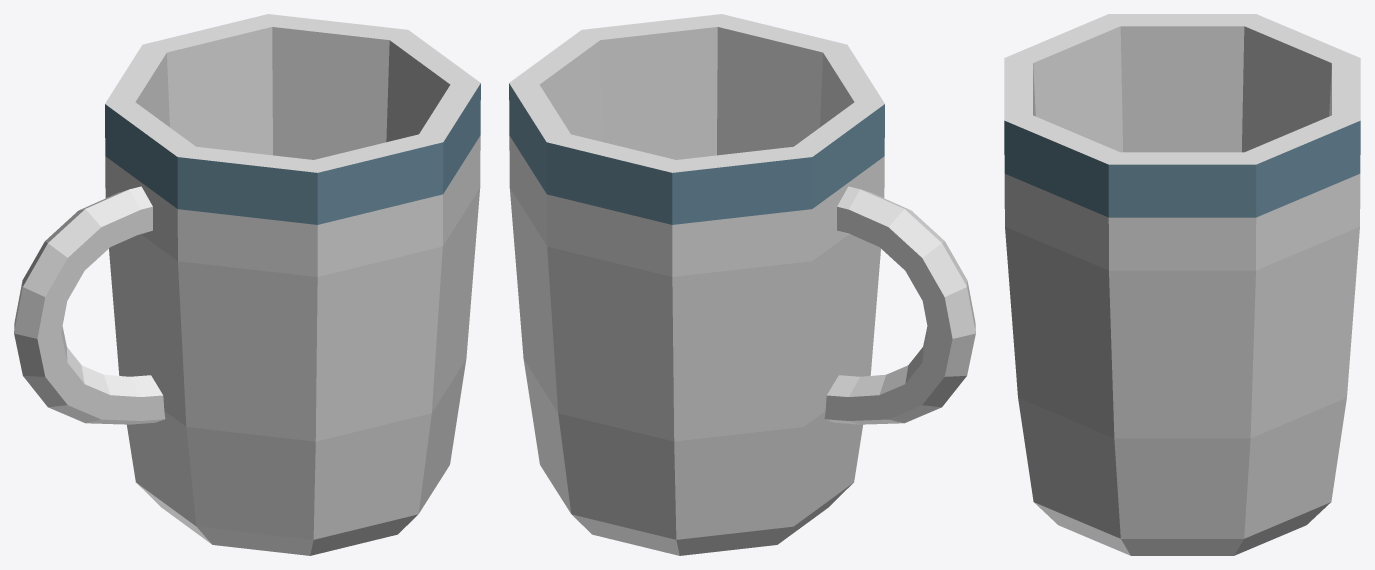
File: Cup3_C2.fbx
The picture shows the model from 3 angles, left to right: view 1: azimuth 30°, elevation 25°; view 2: azimuth 150°, elevation 25°; view 3: azimuth 270°, elevation 25°; orthographic projection.
Parts seen in each view (by area): view 1: Cup3_C2; view 2: Cup3_C2; view 3: Cup3_C2.
Part boxes in pixels (x1,y1,x2,y2): Cup3_C2: (14,14,480,555); Cup3_C2: (509,14,975,555); Cup3_C2: (1004,14,1360,555).
Size of the model in its own units: 13.18 by 11.91 by 9.29.
